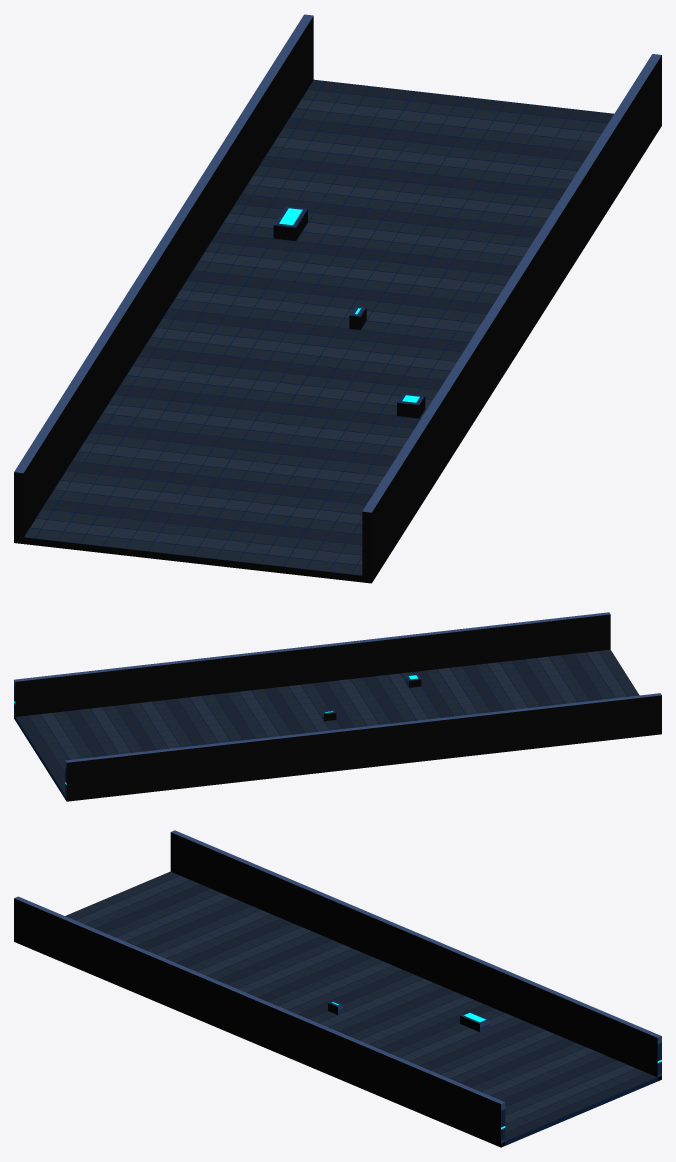
File: strip_kit.glb
The picture shows the model from 3 angles, top to bottom: view 1: azimuth 30°, elevation 25°; view 2: azimuth 150°, elevation 25°; view 3: azimuth 270°, elevation 25°; orthographic projection. The views are drawn at different scales.
Visible parts, largest first — view 1: arena; view 2: arena; view 3: arena.
Boxes of the visible parts, x1,y1,x2,y2 form: arena: [14, 14, 661, 583]; arena: [14, 612, 661, 801]; arena: [14, 830, 661, 1147].
Bounding box in the file's own units: 35.75 × 2.65 × 35.75.
